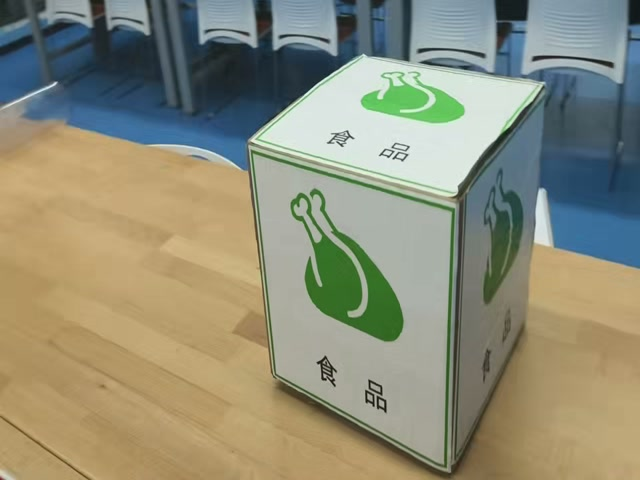Cube_food: (249, 56, 549, 206)
